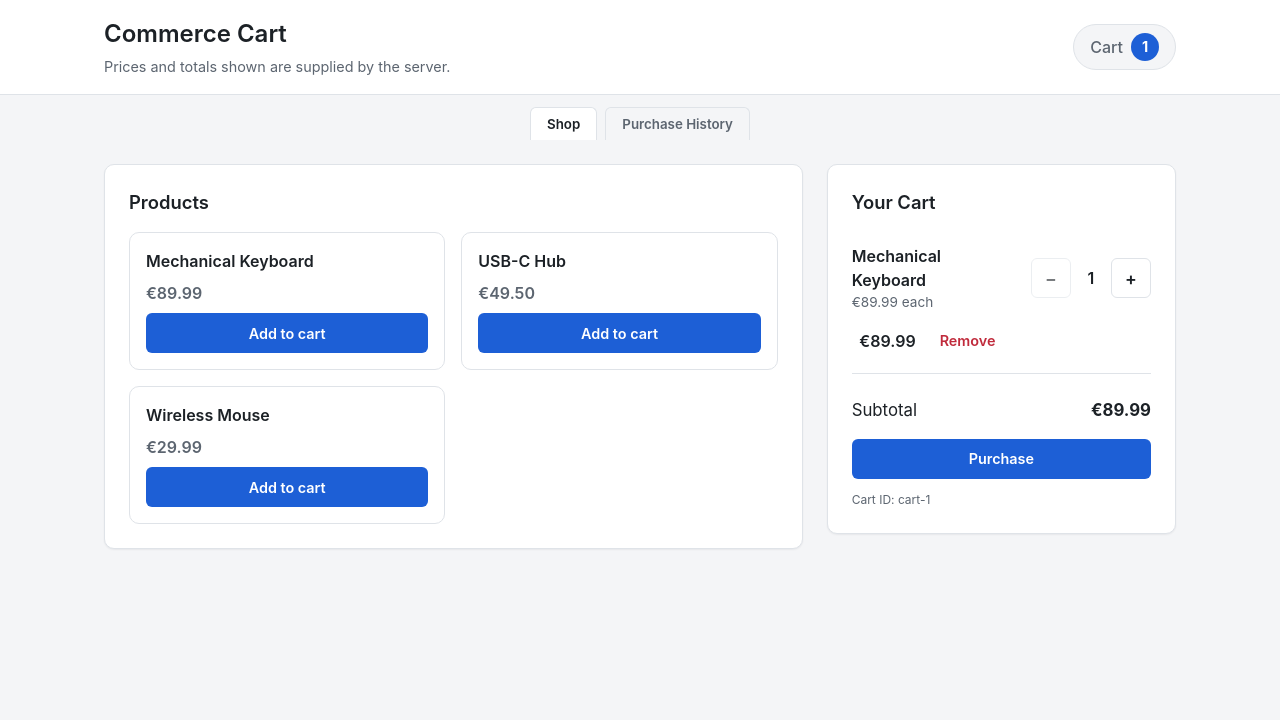
Test case: Commerce Cart application › keeps existing Cart data visible after a mutation failure
Expected: the text "Mechanical Keyboard" is shown, [852,246,941,290]
Click the button "Add to cart" below "€49.50" at point(619, 333), box [478,313,761,353]
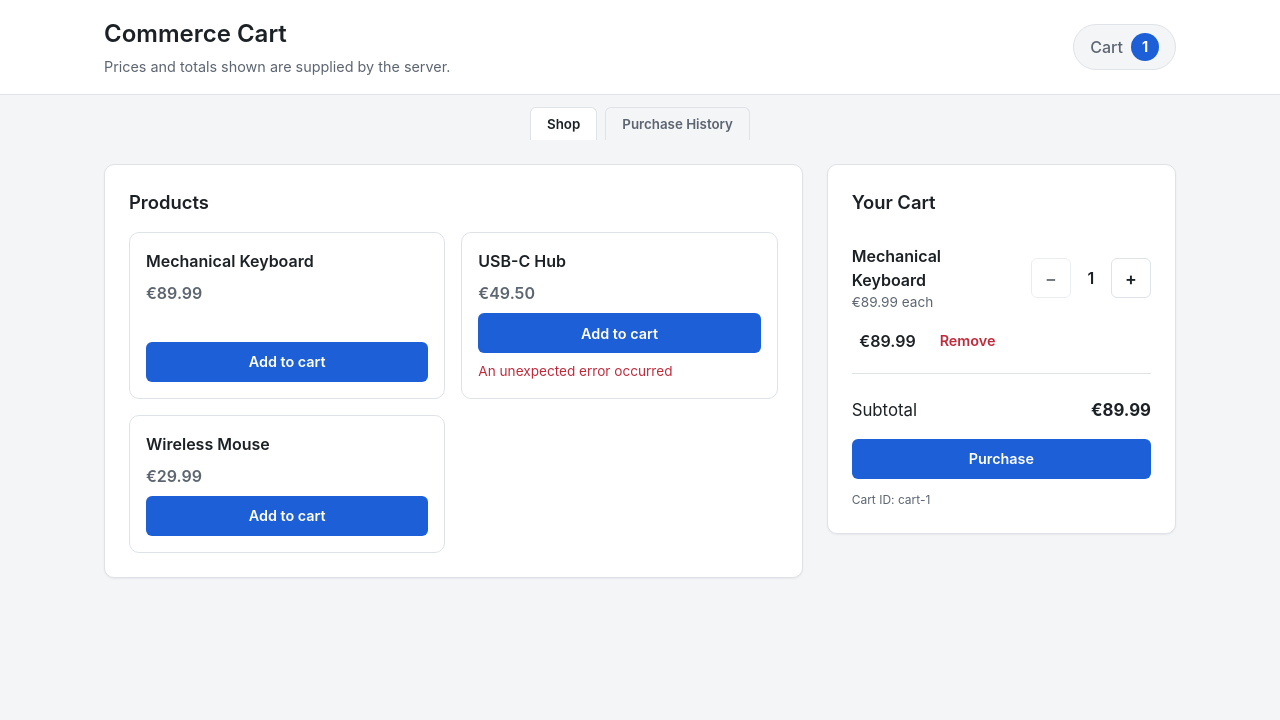
Expected: the text "Mechanical Keyboard" is shown, [852,246,941,290]
Expected: the message "An unexpected error occurred" is shown, [478,363,672,379]
